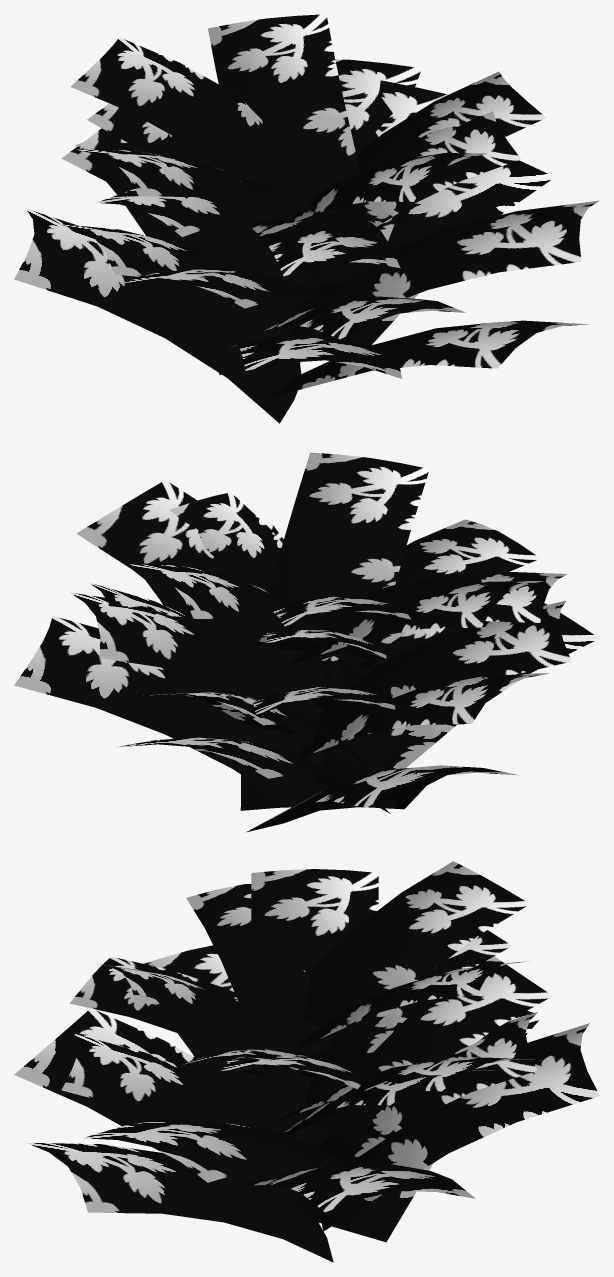
Rendered from SM_Flower_F.glb.
The picture shows the model from 3 angles, top to bottom: view 1: azimuth 30°, elevation 25°; view 2: azimuth 150°, elevation 25°; view 3: azimuth 270°, elevation 25°; orthographic projection.
Visible parts, largest first — view 1: SM_Flower_F_LOD0; view 2: SM_Flower_F_LOD0; view 3: SM_Flower_F_LOD0.
Boxes of the visible parts, bbox=[...] form: SM_Flower_F_LOD0: bbox=[14, 14, 599, 423]; SM_Flower_F_LOD0: bbox=[14, 452, 599, 832]; SM_Flower_F_LOD0: bbox=[14, 861, 599, 1262].
Size of the model in its own units: 0.4145 by 0.2345 by 0.4184.
1 material, 1 textured.
